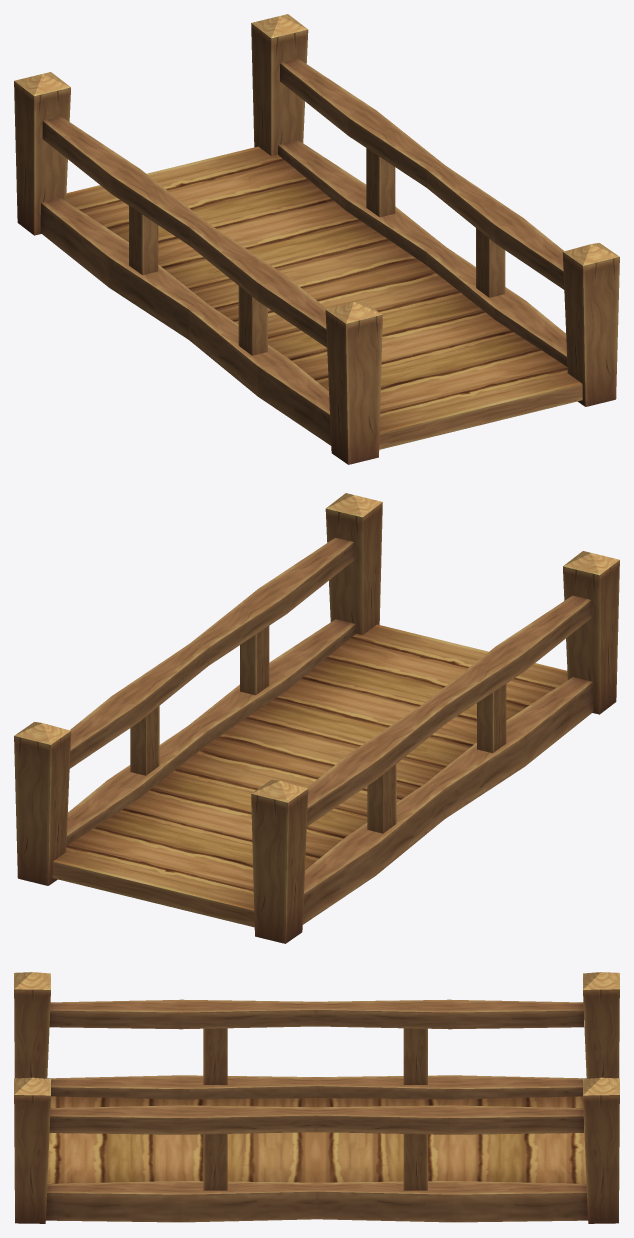
The model's file is bridge_02a.fbx.
The picture shows the model from 3 angles, top to bottom: view 1: azimuth 30°, elevation 25°; view 2: azimuth 150°, elevation 25°; view 3: azimuth 270°, elevation 25°; orthographic projection. The views are drawn at different scales.
Visible parts, largest first — view 1: bridge_02aMesh; view 2: bridge_02aMesh; view 3: bridge_02aMesh.
Boxes of the visible parts, box(x1,y1,x2,y2) form: bridge_02aMesh: box(14, 14, 619, 464); bridge_02aMesh: box(14, 493, 619, 943); bridge_02aMesh: box(14, 972, 619, 1223).
Size of the model in its own units: 2.03 by 1.08 by 4.26.
